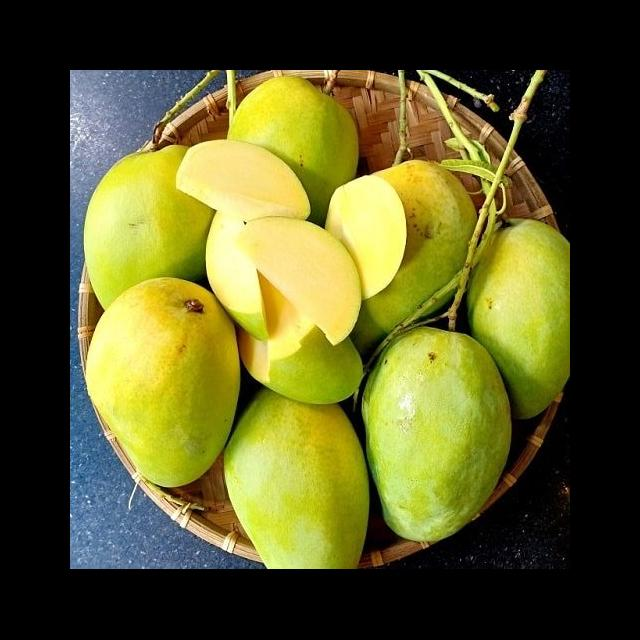xoai: (83, 279, 236, 488), (362, 324, 509, 540), (225, 391, 373, 569), (470, 210, 572, 419), (84, 147, 216, 306)
